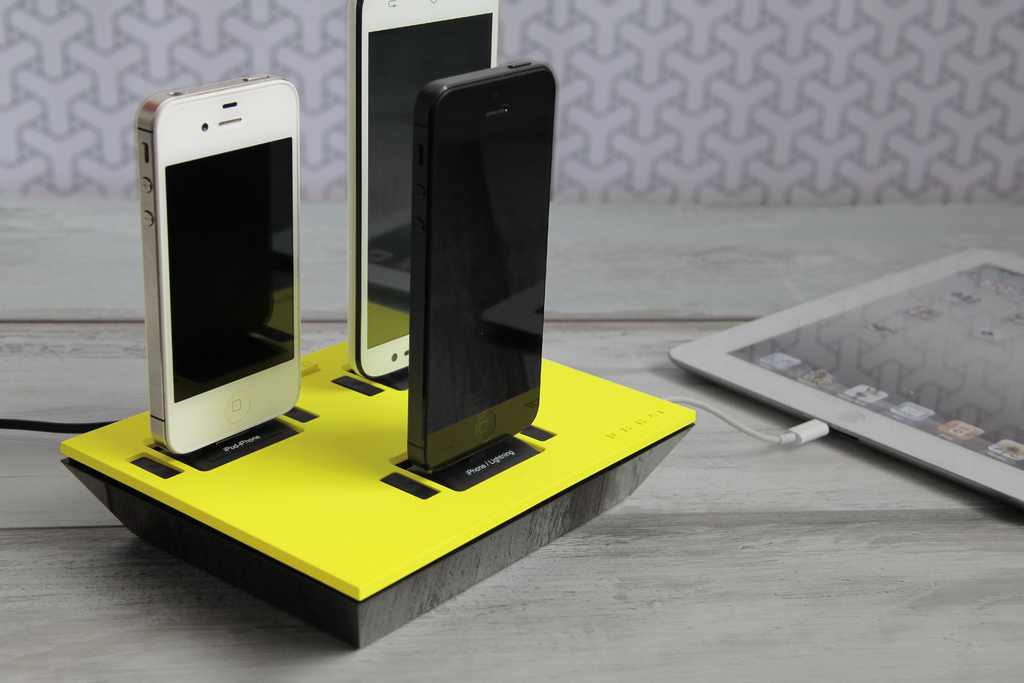Mobile-phone: (134, 73, 301, 453), (409, 57, 556, 470), (348, 0, 499, 379)
